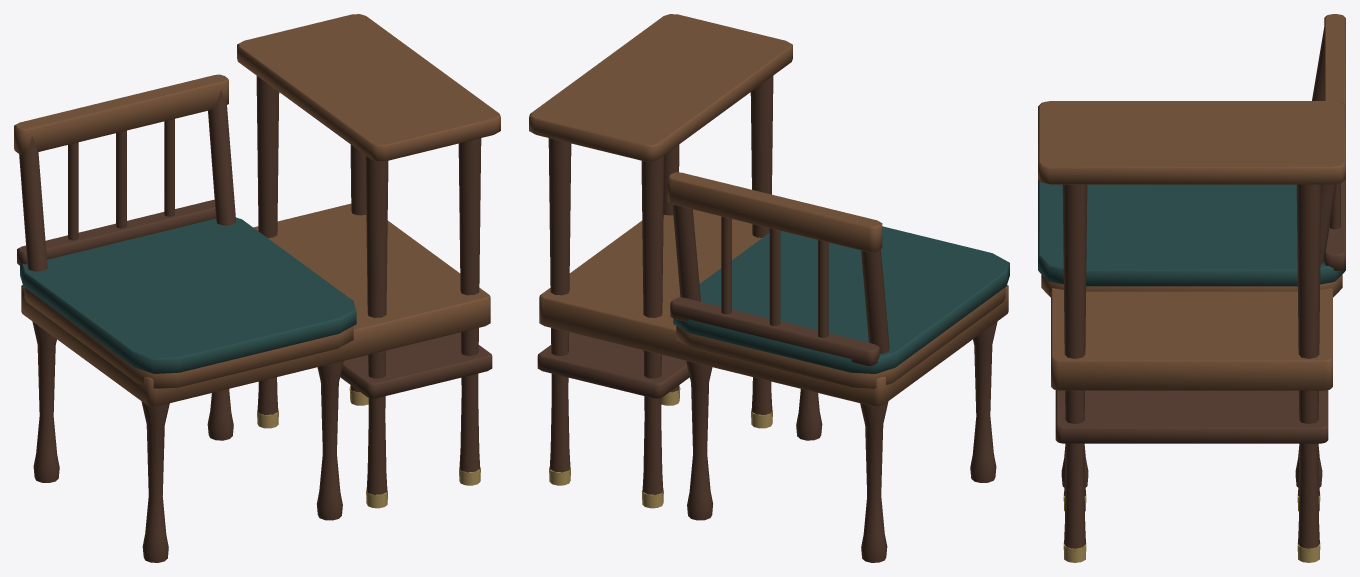
Rendered from rpg-mansion-telephone-bench-01.glb.
The picture shows the model from 3 angles, left to right: view 1: azimuth 30°, elevation 25°; view 2: azimuth 150°, elevation 25°; view 3: azimuth 270°, elevation 25°; orthographic projection. The views are drawn at different scales.
Visible parts, largest first — view 1: rpg-mansion-telephone-bench-01; view 2: rpg-mansion-telephone-bench-01; view 3: rpg-mansion-telephone-bench-01.
Part boxes in pixels (left/top/right/bottom): rpg-mansion-telephone-bench-01: left=14, top=14, right=500, bottom=562; rpg-mansion-telephone-bench-01: left=529, top=14, right=1009, bottom=562; rpg-mansion-telephone-bench-01: left=1038, top=14, right=1345, bottom=562.
Bounding box in the file's own units: 0.809 × 0.813 × 0.567.
